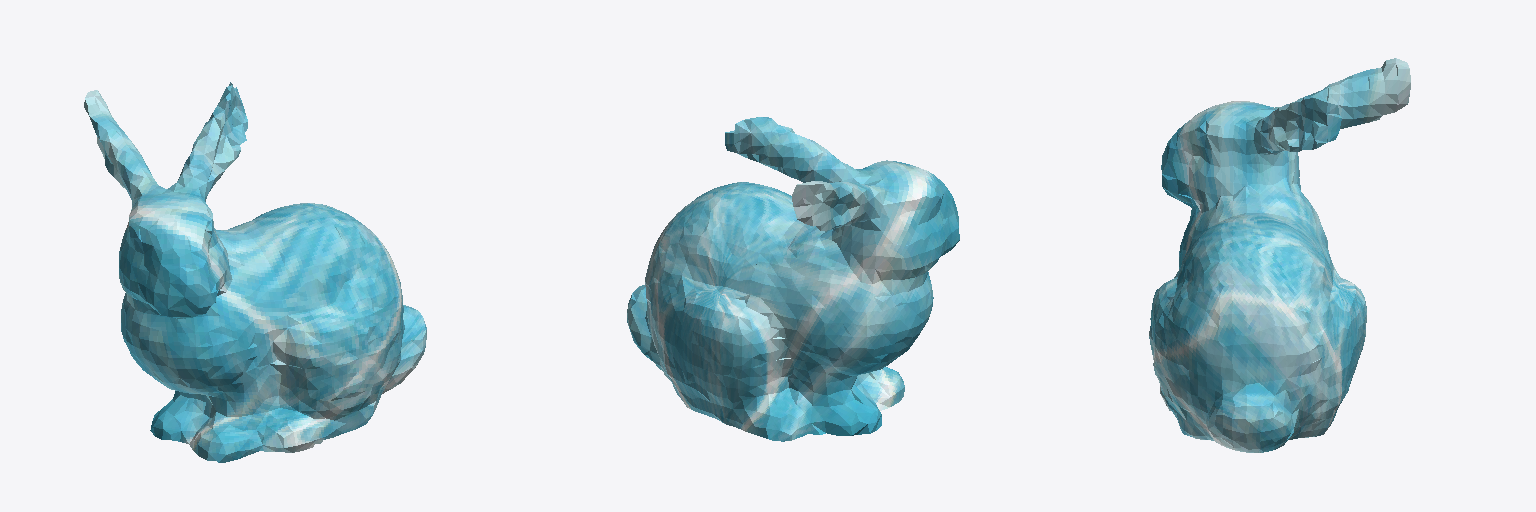
The picture shows the model from 3 angles: view 1: azimuth 30°, elevation 25°; view 2: azimuth 150°, elevation 25°; view 3: azimuth 270°, elevation 25°; orthographic projection.
Visible parts, largest first — view 1: bunny2; view 2: bunny2; view 3: bunny2.
Part boxes in pixels (left/top/right/bottom): bunny2: left=84, top=82, right=426, bottom=462; bunny2: left=627, top=117, right=959, bottom=441; bunny2: left=1149, top=58, right=1410, bottom=452.
Size of the model in its own units: 1.55 by 1.51 by 1.17.
Materials: 1 (1 with a texture image).